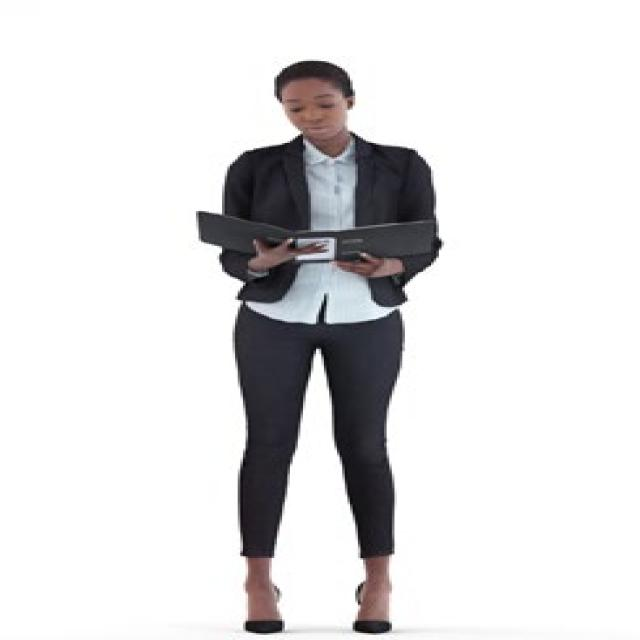standing: (216, 57, 454, 640)
